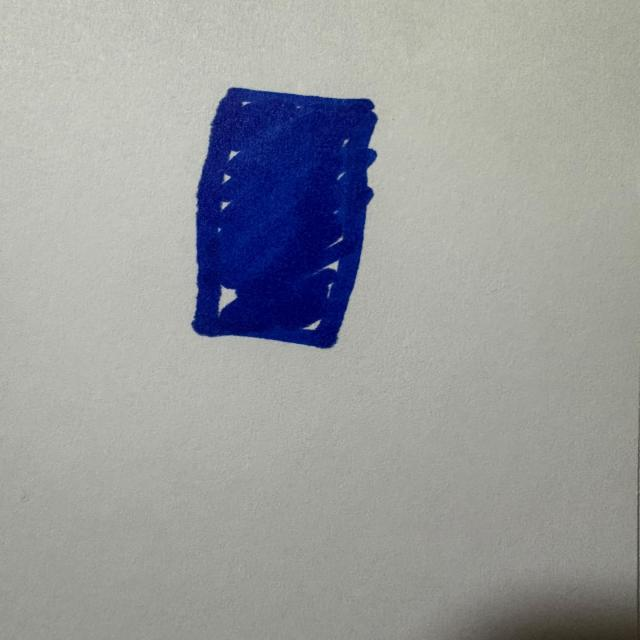Rectangle: (191, 88, 377, 349)
